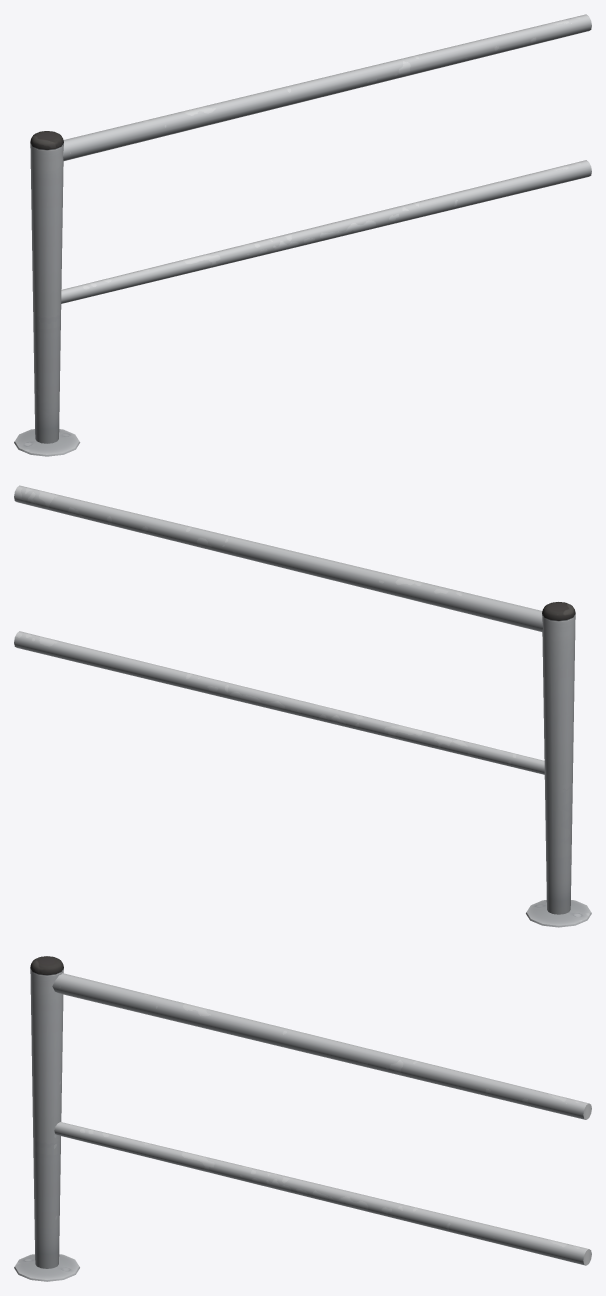
File: CommTurnStile01_3.FBX
3 views of the same model, one above another, from view 1: azimuth 30°, elevation 25°; view 2: azimuth 150°, elevation 25°; view 3: azimuth 330°, elevation 25° (orthographic).
Parts seen in each view (by area): view 1: CommTurnStile01_3; view 2: CommTurnStile01_3; view 3: CommTurnStile01_3.
Boxes of the visible parts, x1,y1,x2,y2 form: CommTurnStile01_3: (14, 14, 591, 456); CommTurnStile01_3: (14, 485, 591, 927); CommTurnStile01_3: (14, 956, 591, 1281).
Size of what is drawn, in the model's own units: 2.11 by 1.08 by 0.2124.
